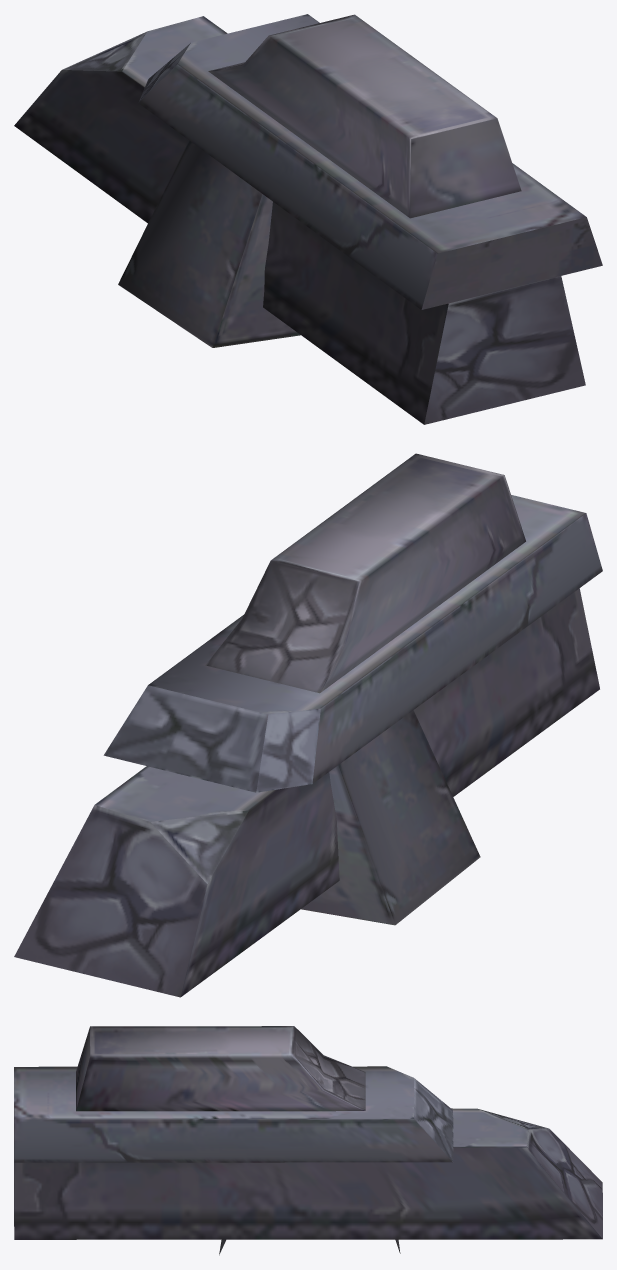
File: TwistedJungle_columns04.FBX
3 renders of one model, top to bottom at view 1: azimuth 30°, elevation 25°; view 2: azimuth 150°, elevation 25°; view 3: azimuth 270°, elevation 25°, orthographic. The views are drawn at different scales.
Parts seen in each view (by area): view 1: Object001; view 2: Object001; view 3: Object001.
Part boxes in pixels (x1,y1,x2,y2): Object001: [14, 14, 602, 424]; Object001: [14, 453, 602, 997]; Object001: [14, 1026, 602, 1255].
Size of the model in its own units: 4.09 by 4.52 by 12.46.
